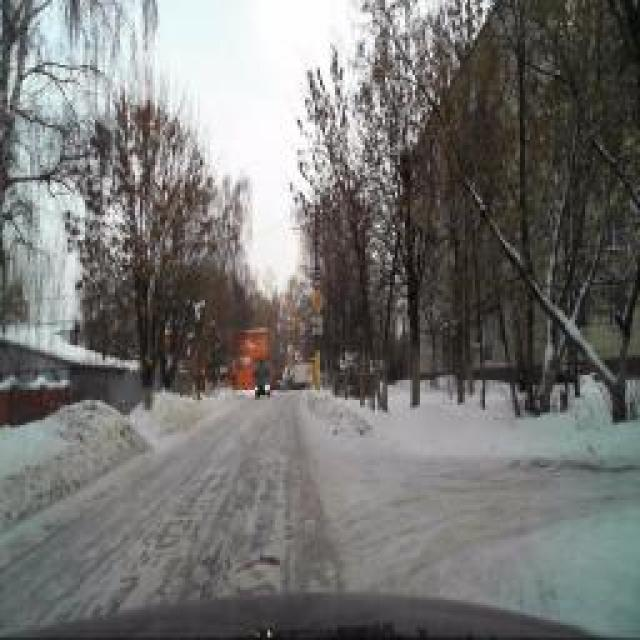sign: (311, 288, 324, 314)
